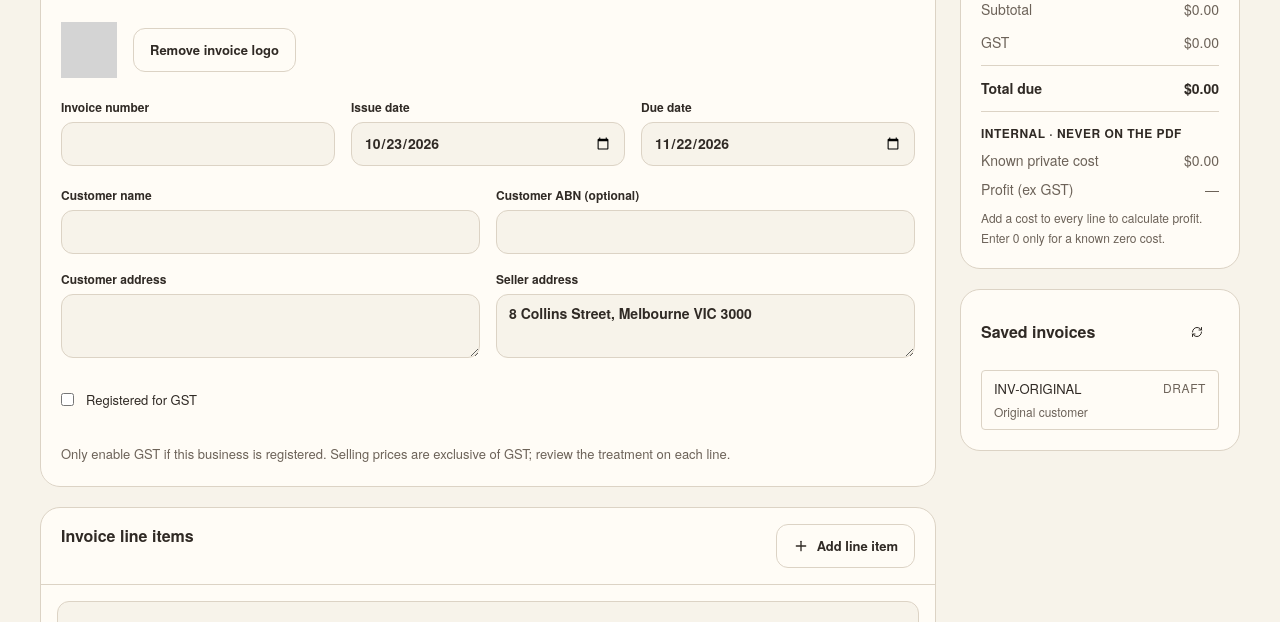
Test: applies calendar terms across a month boundary without changing customer or line details
Click the button with aria-label "Open INV-ORIGINAL": (1100, 400) [981,370,1219,430]
(page scrolled)
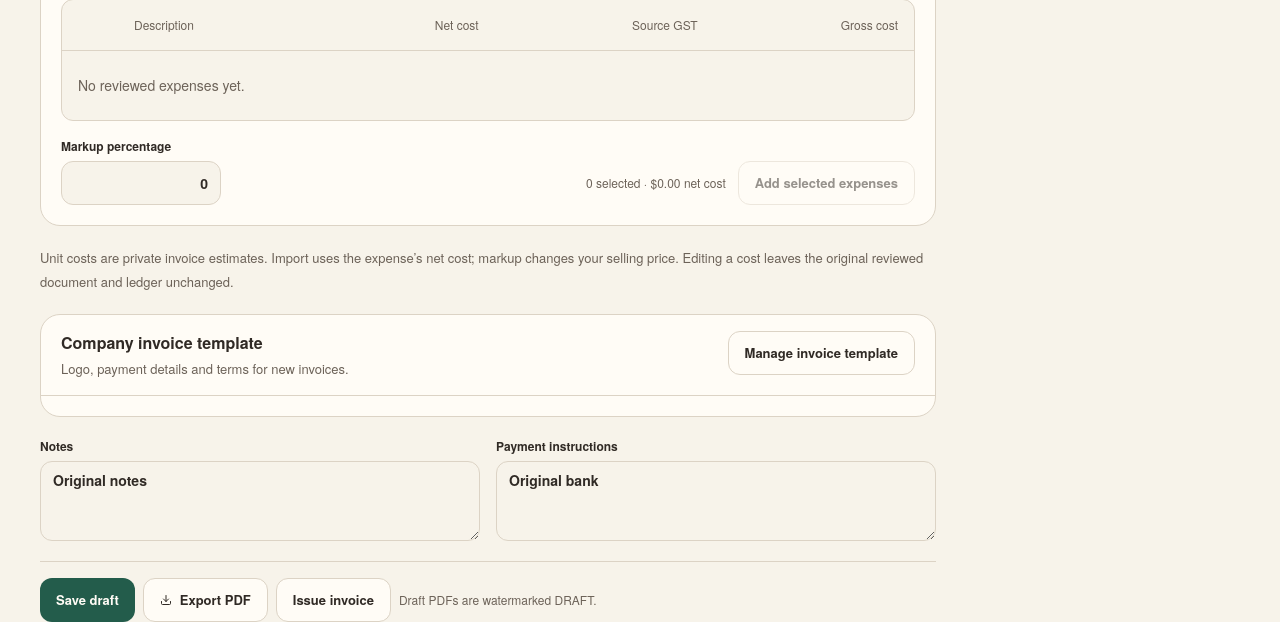
Click the button "Manage invoice template": (821, 353) [728,331,915,375]
(page scrolled)
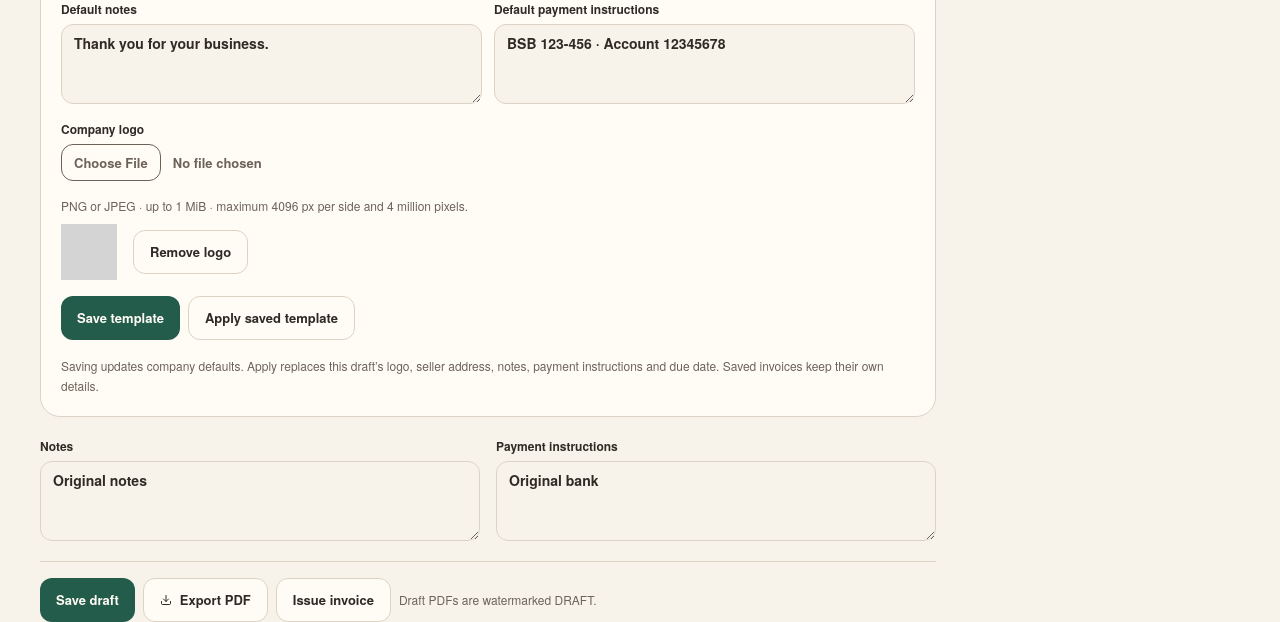
Click the button "Apply saved template": (271, 318) [188,296,355,340]
(page scrolled)
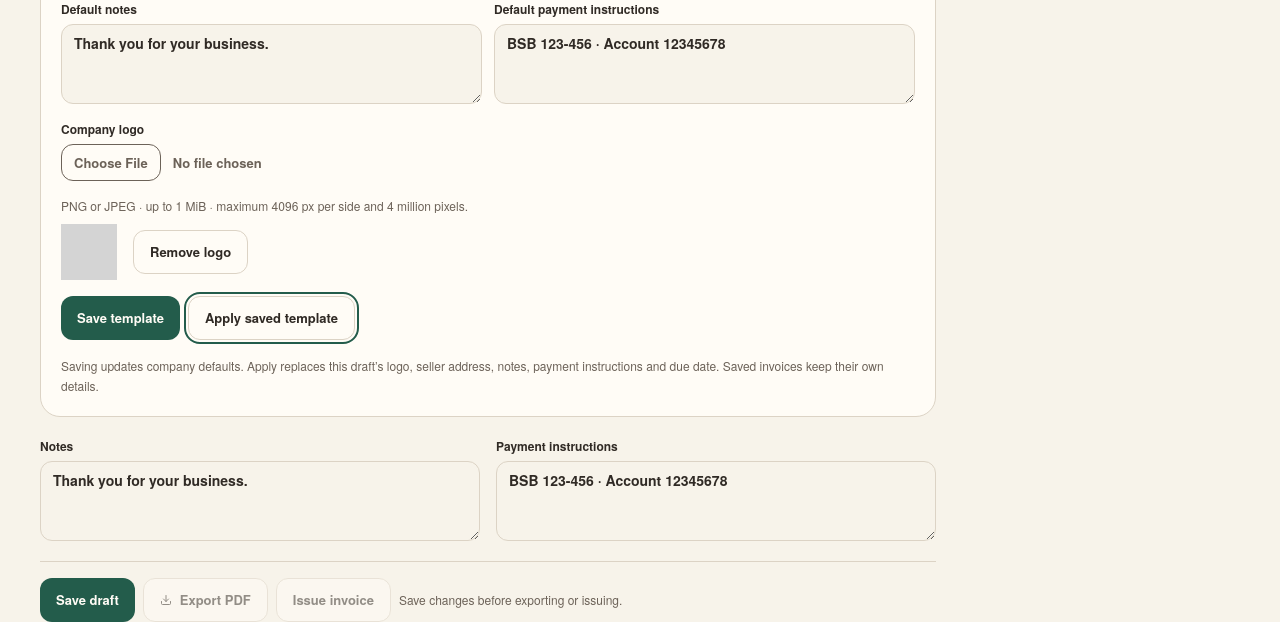
Result: the button "Export PDF" is disabled at [143,578,268,621]
